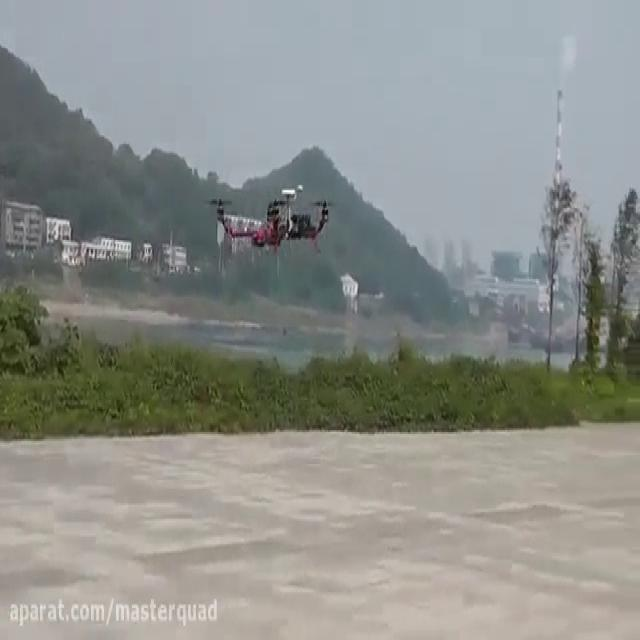drone: (202, 176, 341, 260)
